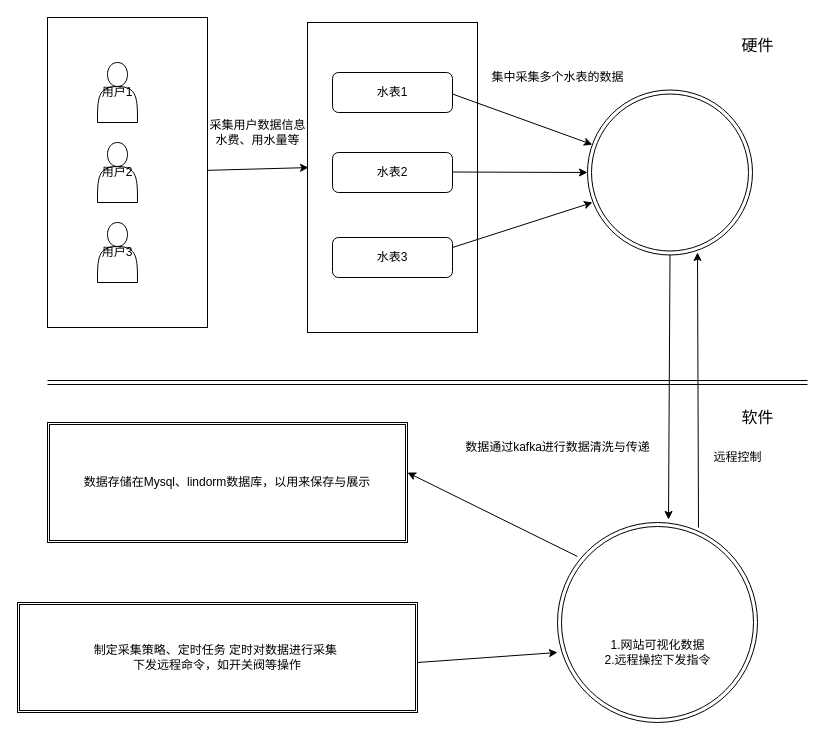
This 825x740 diagram has some shape labels left out. Each missing label, with the box of its shape:
水/热表管理系统: (556, 522, 758, 722)
采集器/集中器: (586, 89, 752, 255)
